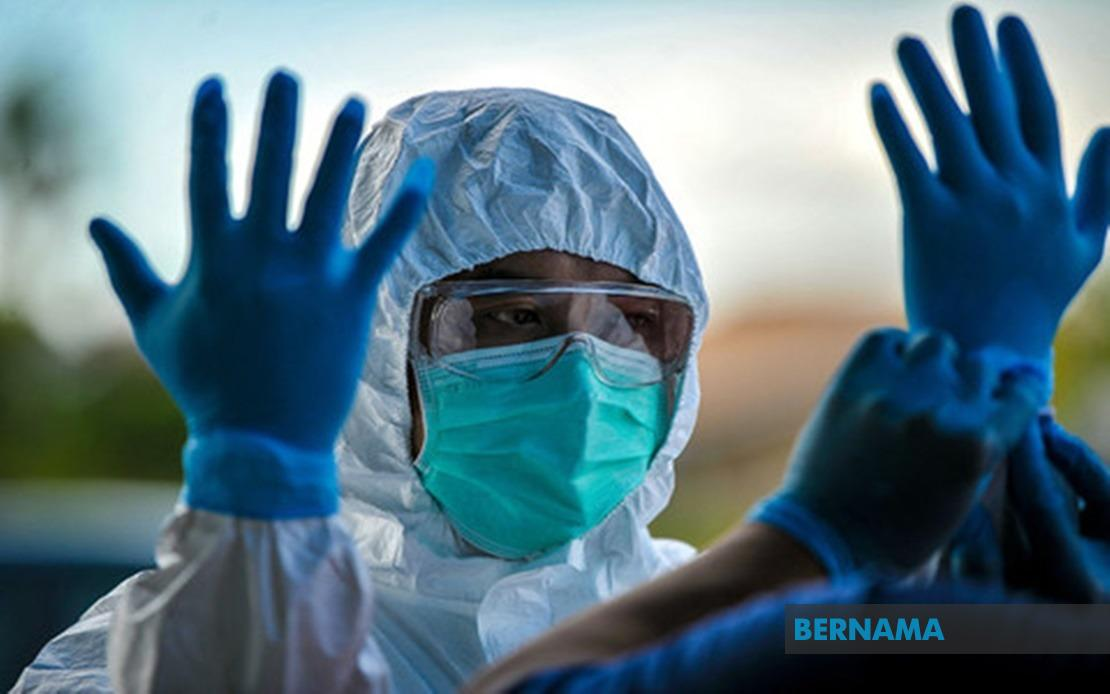Gloves: (93, 68, 428, 502), (844, 4, 1108, 372), (765, 333, 1047, 584)
Goggles: (409, 262, 713, 398)
with_mask: (408, 269, 687, 550)
